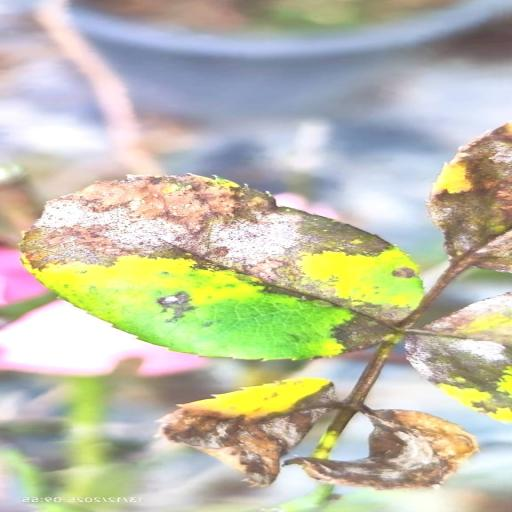thrip: (22, 175, 421, 359), (159, 378, 336, 486), (284, 408, 477, 490), (404, 294, 511, 421), (428, 122, 511, 272)
